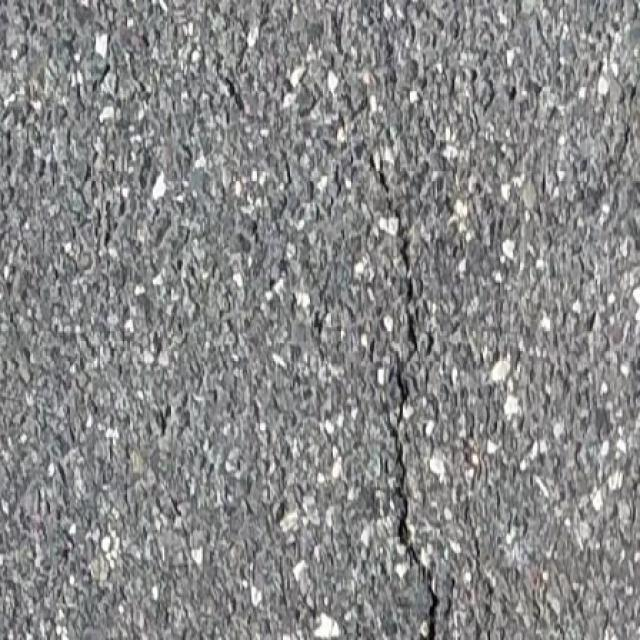Vertical Crack: (362, 150, 441, 639)
